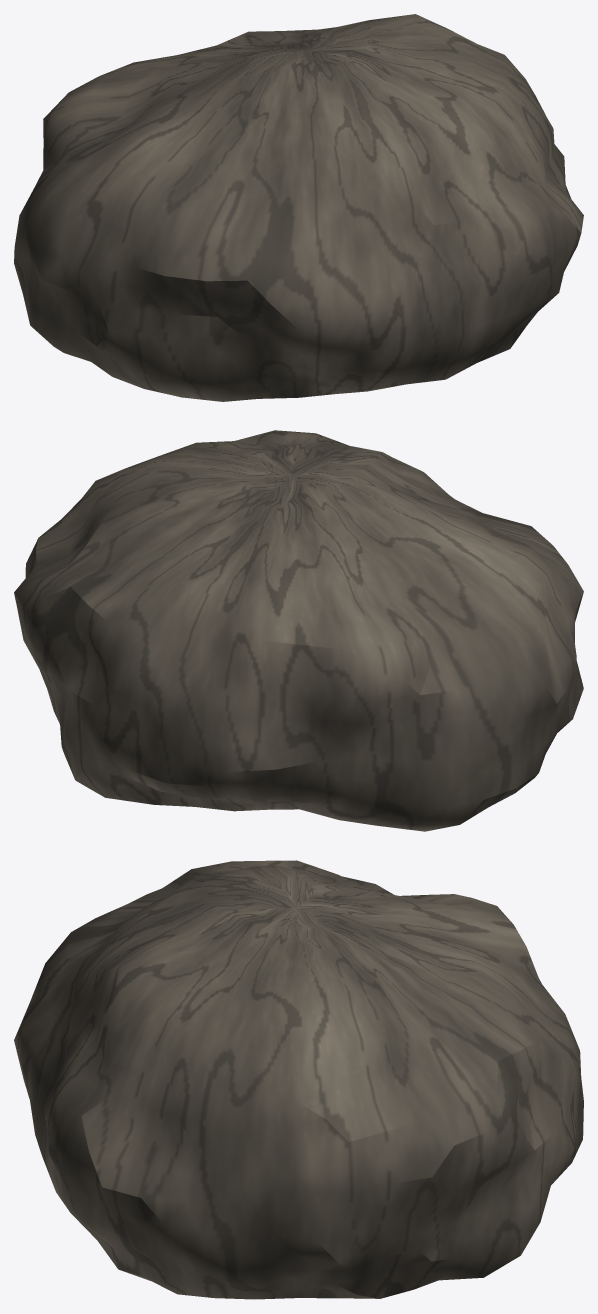
Rendered from rock.glb.
3 renders of one model, top to bottom at view 1: azimuth 30°, elevation 25°; view 2: azimuth 150°, elevation 25°; view 3: azimuth 270°, elevation 25°, orthographic. The views are drawn at different scales.
Visible parts, largest first — view 1: rock; view 2: rock; view 3: rock.
Part boxes in pixels (box(x1,y1,x2,y2)): rock: box(14, 14, 583, 401); rock: box(14, 430, 583, 831); rock: box(14, 860, 583, 1299).
Size of the model in its own units: 0.085 by 0.0451 by 0.0745.
Materials: 1 (1 with a texture image).
